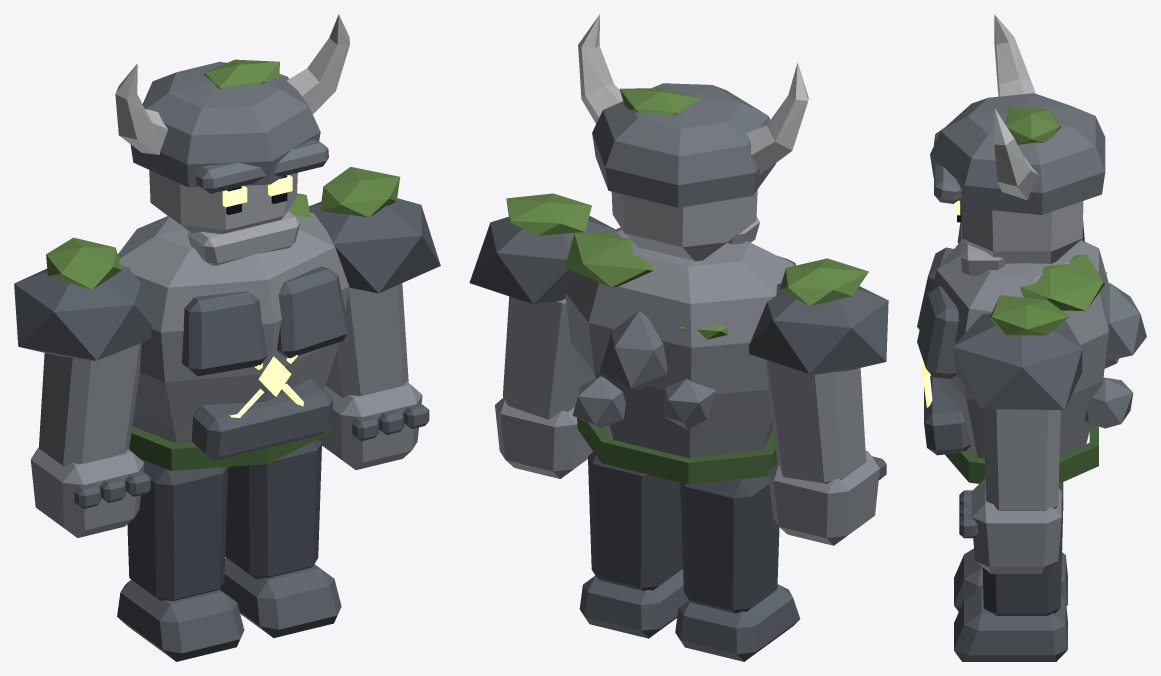
Rendered from Golem.fbx.
3 views of the same model, side by side, from view 1: azimuth 30°, elevation 25°; view 2: azimuth 150°, elevation 25°; view 3: azimuth 270°, elevation 25° (orthographic). The views are drawn at different scales.
Parts seen in each view (by area): view 1: Torso, ChestPlates, Crag, RightLeg, LeftLeg, RightArmBoulder, RightArm, LeftArmBoulder, LeftArm, RightLegFoot, LeftLegFoot, RightArmFist (+12 smaller); view 2: Torso, Crag, RightLeg, LeftLeg, RightArm, RightArmBoulder, LeftArm, Rocks, LeftArmBoulder, Head, RightArmFist, RightLegFoot (+8 smaller); view 3: Crag, Torso, LeftArmBoulder, LeftArm, ChestPlates, LeftLegFoot, LeftArmFist, Head, CragHorns, Rocks, LeftLeg, Moss (+6 smaller).
Part boxes in pixels (x1,y1,x2,y2): Torso: (118,210,349,444); ChestPlates: (182,266,348,460); Crag: (130,61,328,193); RightLeg: (127,458,228,601); LeftLeg: (225,439,321,579); RightArmBoulder: (14,266,152,360); RightArm: (39,343,141,466); LeftArmBoulder: (309,198,440,293); LeftArm: (325,283,408,397); RightLegFoot: (117,579,244,661); LeftLegFoot: (219,557,341,638); RightArmFist: (30,447,144,537); Torso: (565,227,794,457); Crag: (592,83,775,207); RightLeg: (680,476,779,613); LeftLeg: (588,452,682,590); RightArm: (766,359,866,483); RightArmBoulder: (749,283,888,374); LeftArm: (503,296,582,419); Rocks: (572,310,716,429); LeftArmBoulder: (469,215,615,304); Head: (611,190,757,261); RightArmFist: (768,451,879,545); RightLegFoot: (675,584,800,661); Crag: (930,93,1105,214); Torso: (930,240,1108,458); LeftArmBoulder: (953,313,1082,409); LeftArm: (983,409,1060,510); ChestPlates: (917,247,970,455); LeftLegFoot: (954,589,1067,661); LeftArmFist: (971,478,1061,573); Head: (961,201,1083,263); CragHorns: (994,14,1039,200); Rocks: (1085,283,1146,428); LeftLeg: (982,482,1063,615); Moss: (1020,254,1107,310).
Bounding box in the file's own units: 4.81 × 6.75 × 2.49.
